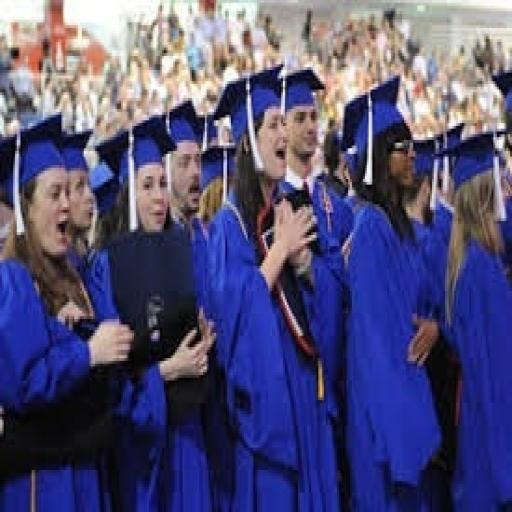clapping: (202, 83, 351, 512)
